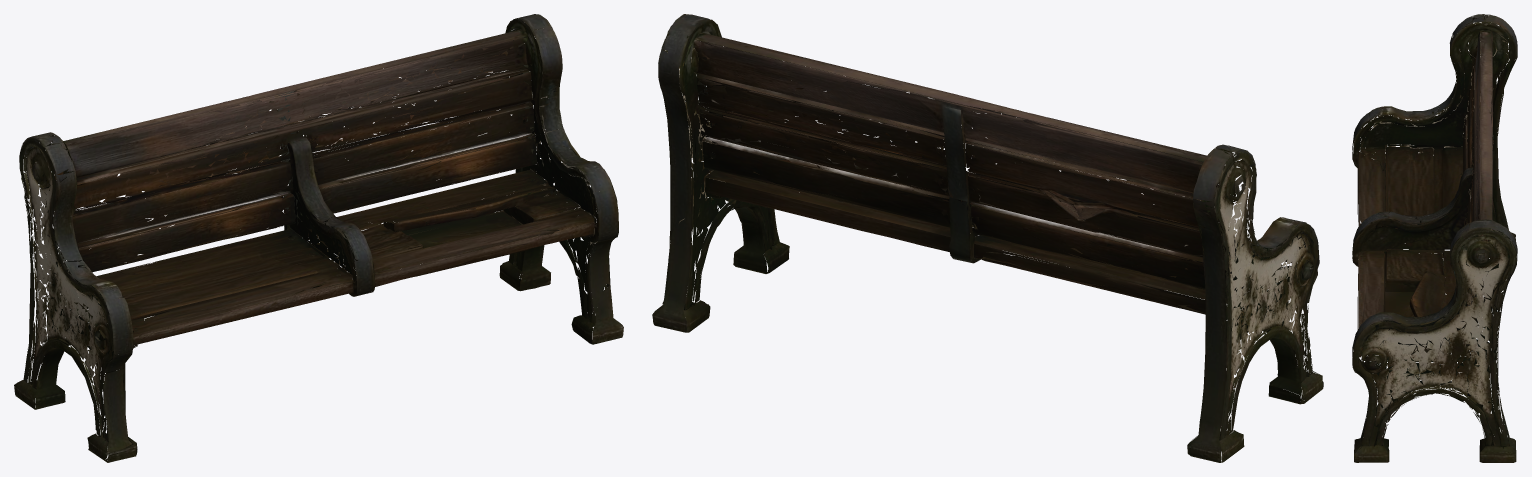
Rendered from ch03_fountain_bench.glb.
3 views of the same model, side by side, from view 1: azimuth 30°, elevation 25°; view 2: azimuth 150°, elevation 25°; view 3: azimuth 270°, elevation 25° (orthographic). The views are drawn at different scales.
Parts seen in each view (by area): view 1: material; view 2: material; view 3: material.
Part boxes in pixels (x1,y1,x2,y2): material: (14,14,623,462); material: (652,14,1323,462); material: (1352,14,1517,462).
Bounding box in the file's own units: 1.04 × 0.5155 × 0.3317.
1 material, 1 textured.
